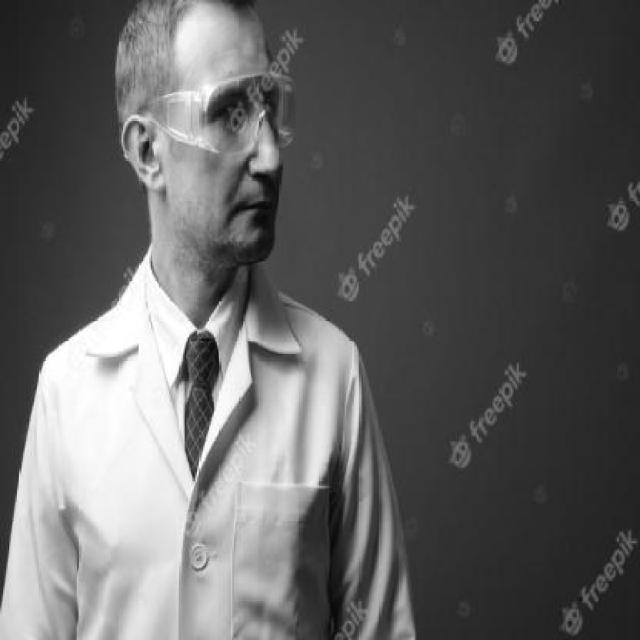face_nomask: (188, 68, 303, 240)
glasses: (137, 69, 297, 156)
head_nohelmet: (117, 0, 281, 48)
person: (0, 1, 419, 640)
